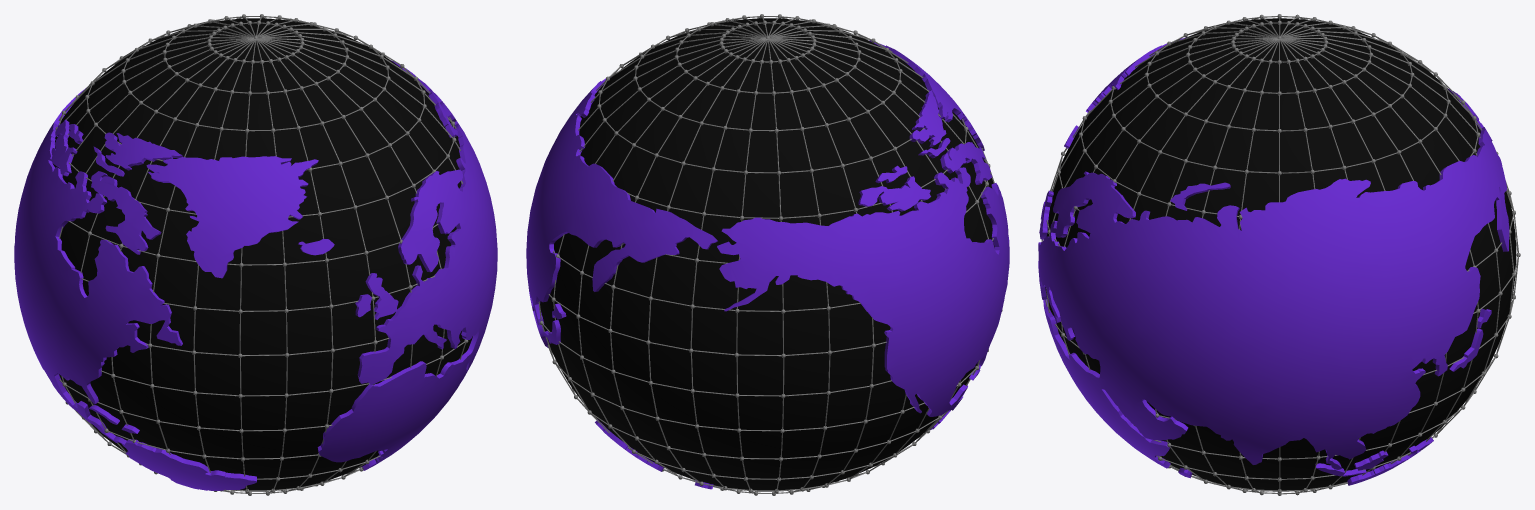
Rendered from globe.gltf.
3 views of the same model, side by side, from view 1: azimuth 30°, elevation 25°; view 2: azimuth 150°, elevation 25°; view 3: azimuth 270°, elevation 25° (orthographic).
Parts seen in each view (by area): view 1: globe, map, wire; view 2: globe, map, wire; view 3: map, globe, wire.
Part boxes in pixels (x1=…): globe: x1=52, y1=18, x2=472, y2=491; map: x1=14, y1=60, x2=497, y2=490; wire: x1=55, y1=14, x2=468, y2=495; globe: x1=540, y1=18, x2=994, y2=491; map: x1=526, y1=40, x2=1009, y2=489; wire: x1=538, y1=14, x2=1002, y2=495; map: x1=1038, y1=37, x2=1509, y2=485; globe: x1=1045, y1=18, x2=1516, y2=491; wire: x1=1041, y1=14, x2=1520, y2=495.
Bounding box in the file's own units: 10.21 × 10.2 × 10.19.
